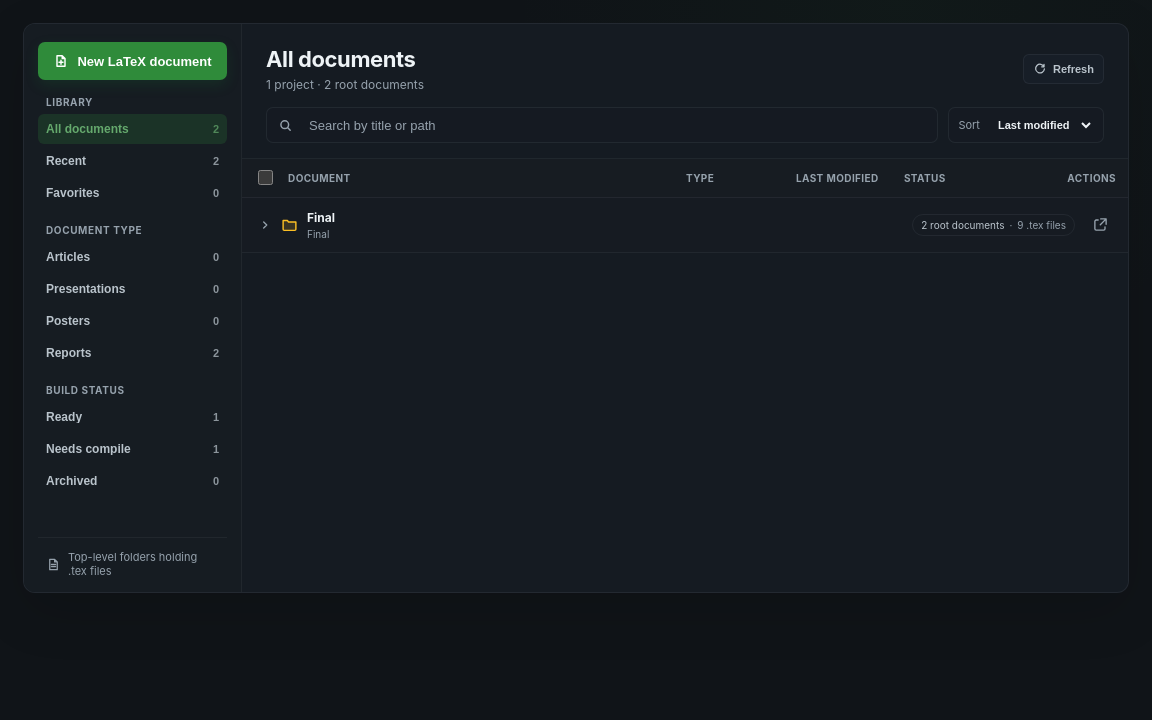
Test: Typeset start page › keeps nested chapter folders inside their first-level project
The image size is (1152, 720).
Expected: the text "1 project · 2 root documents" is shown, [266,77,424,92]
Expected: the text "9 .tex files" is shown, [1004,218,1066,230]
Step 1. Click the button with aria-label "Expand Final project" → coordinates (994, 225), box [250,204,1082,246]
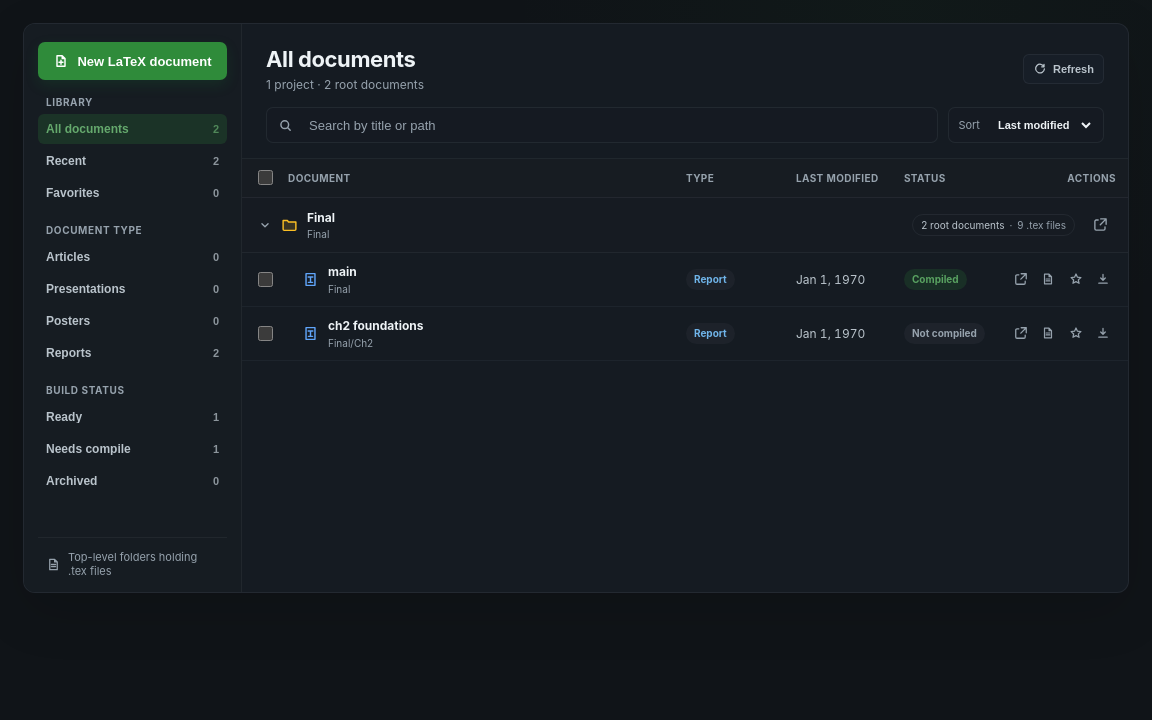
Now the text "ch2 foundations" is shown, box [328,318,424,332]
